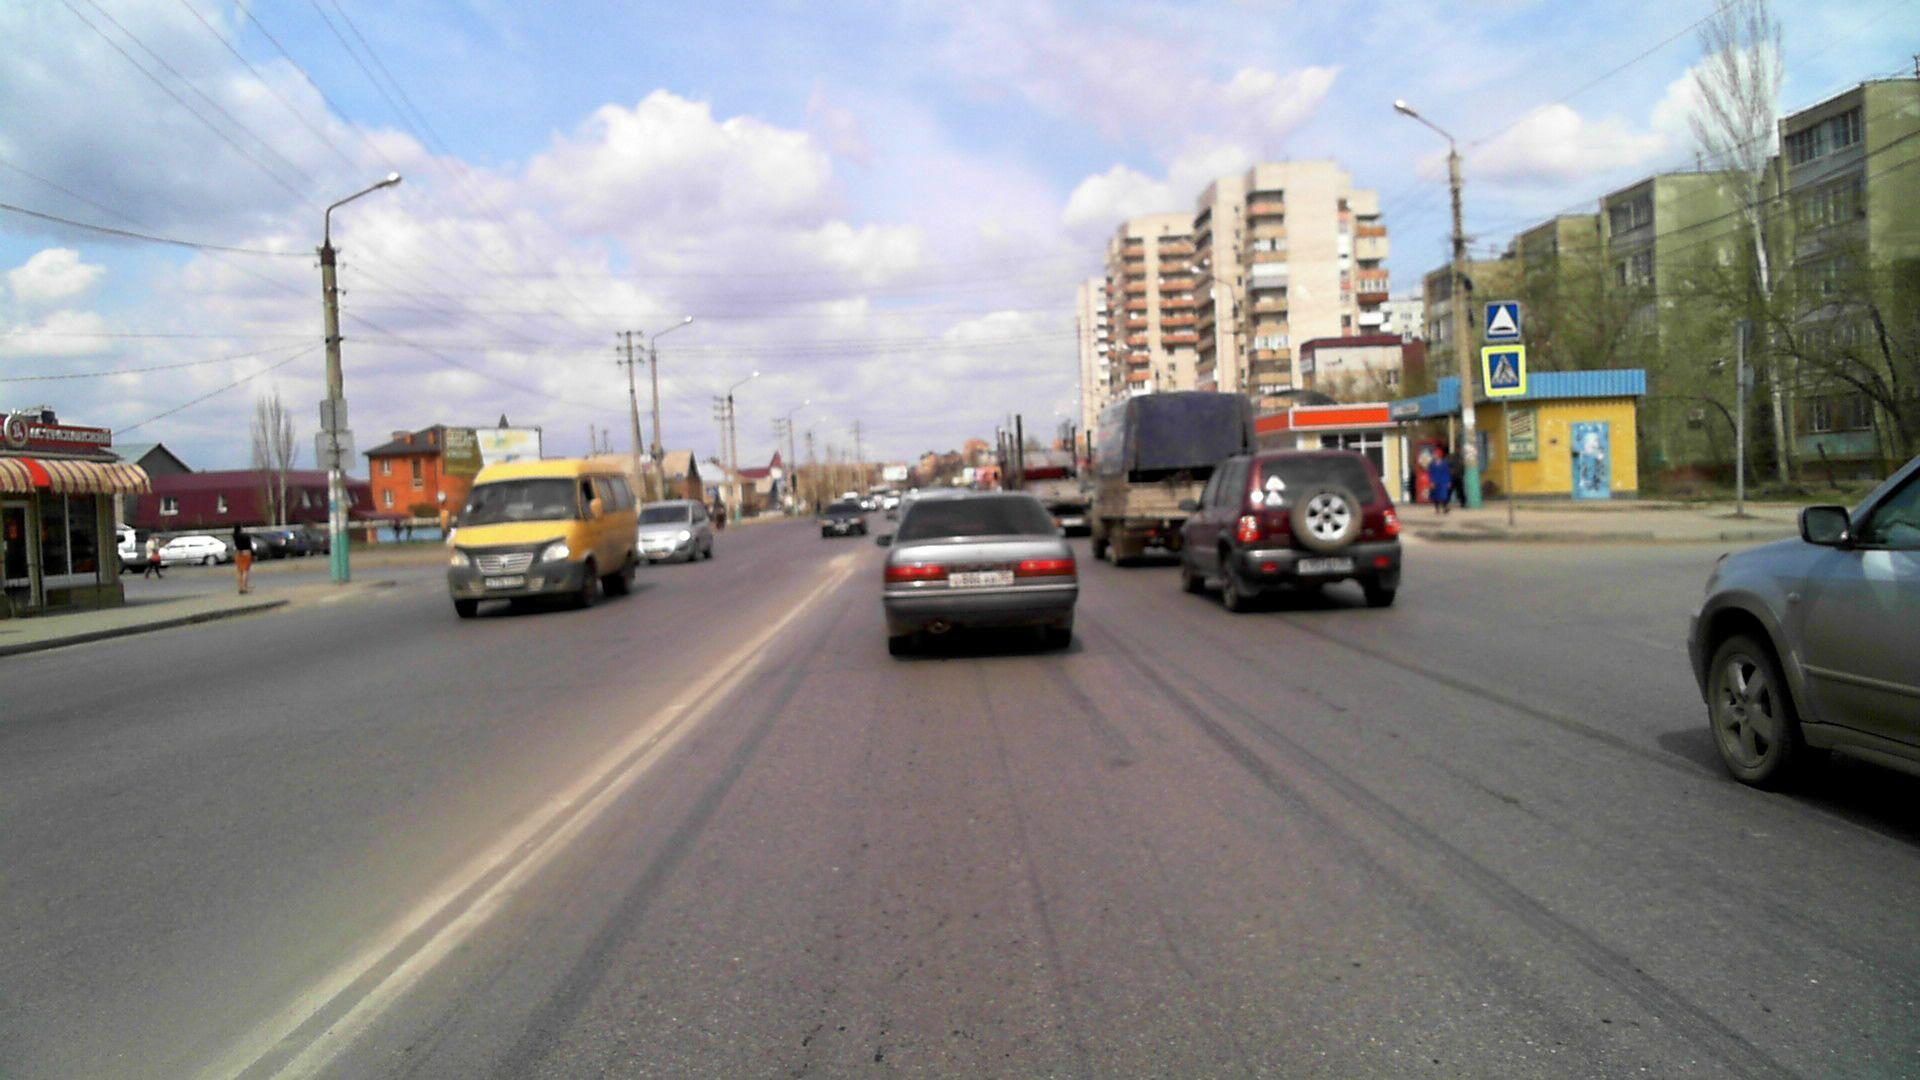5_19_1: (1486, 349, 1524, 394)
5_20: (1484, 298, 1519, 342)
